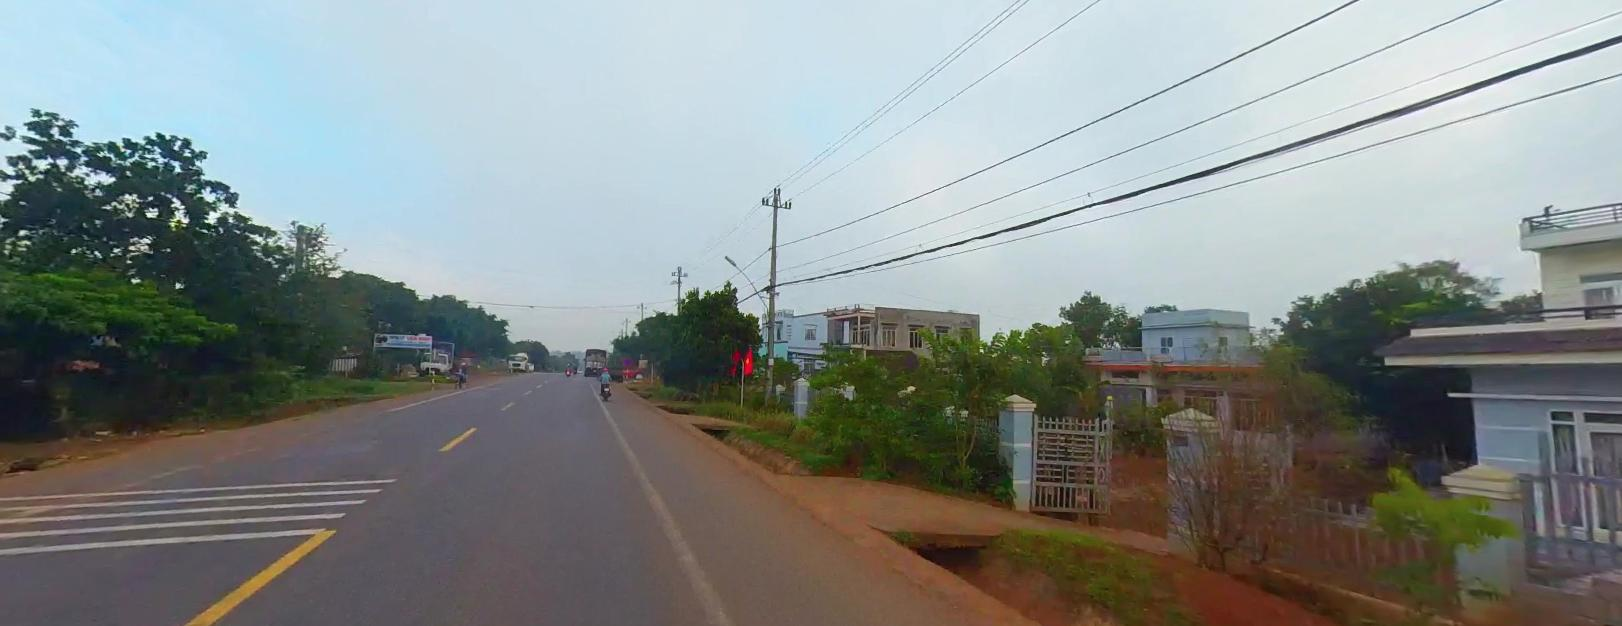Cam dung va do: (622, 356, 633, 366)
